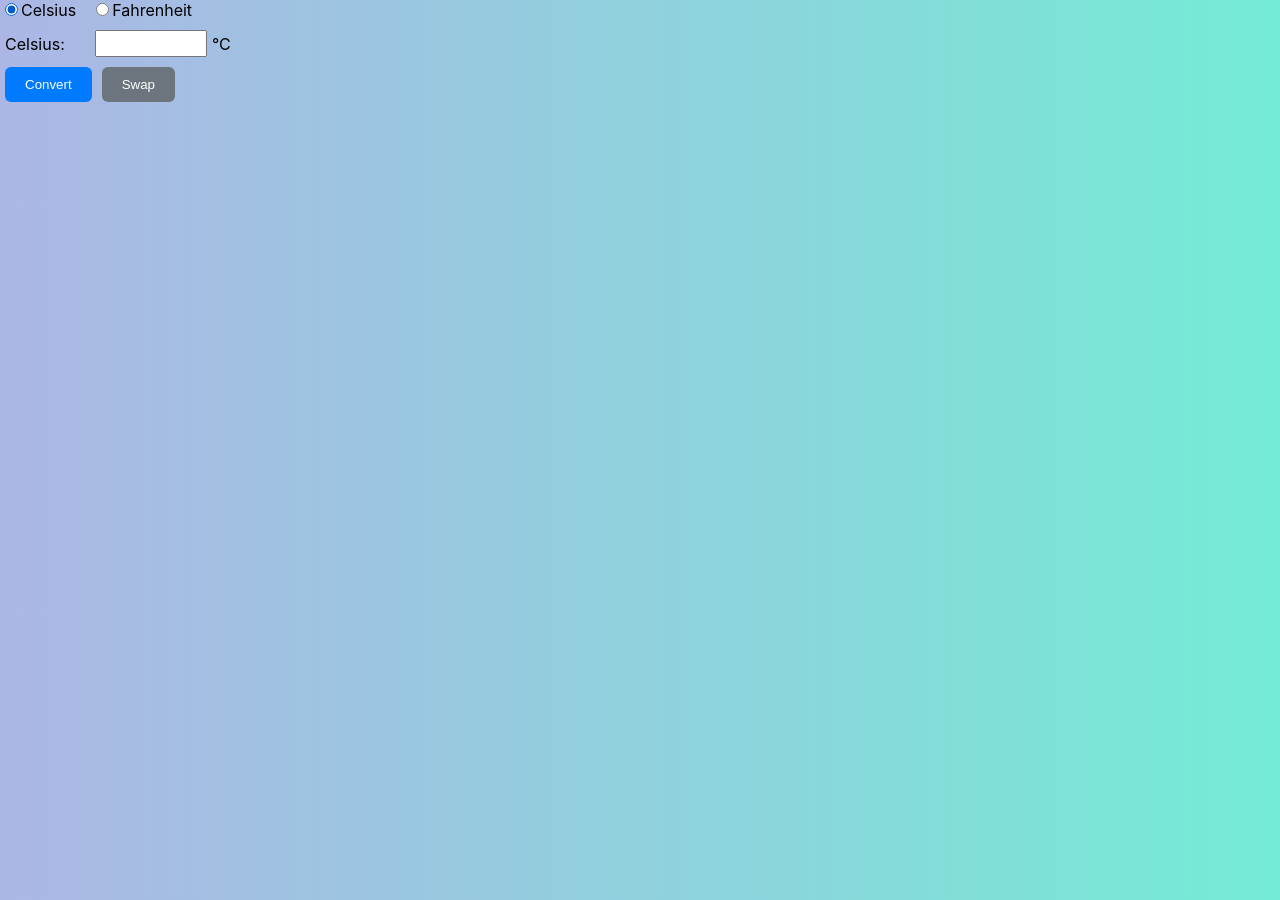
Temperature component › correctly converts temperature
The image size is (1280, 900).
# Enter an input value in Celsius
Type "25" into the number field with test id "input-field" at {"x": 151, "y": 44}, box [95, 30, 207, 57]
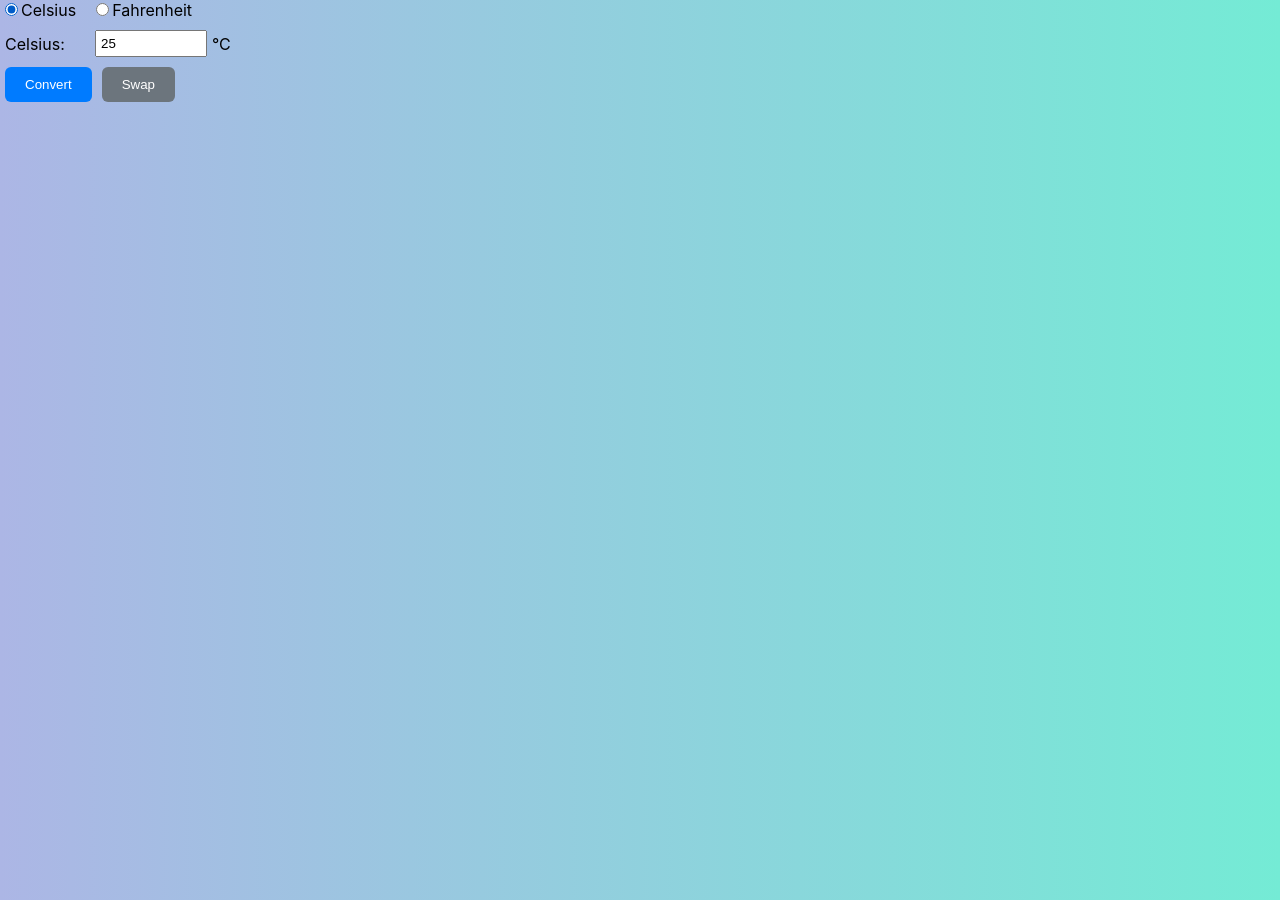
Click the button "Convert" at {"x": 48, "y": 84}, box [5, 67, 92, 102]
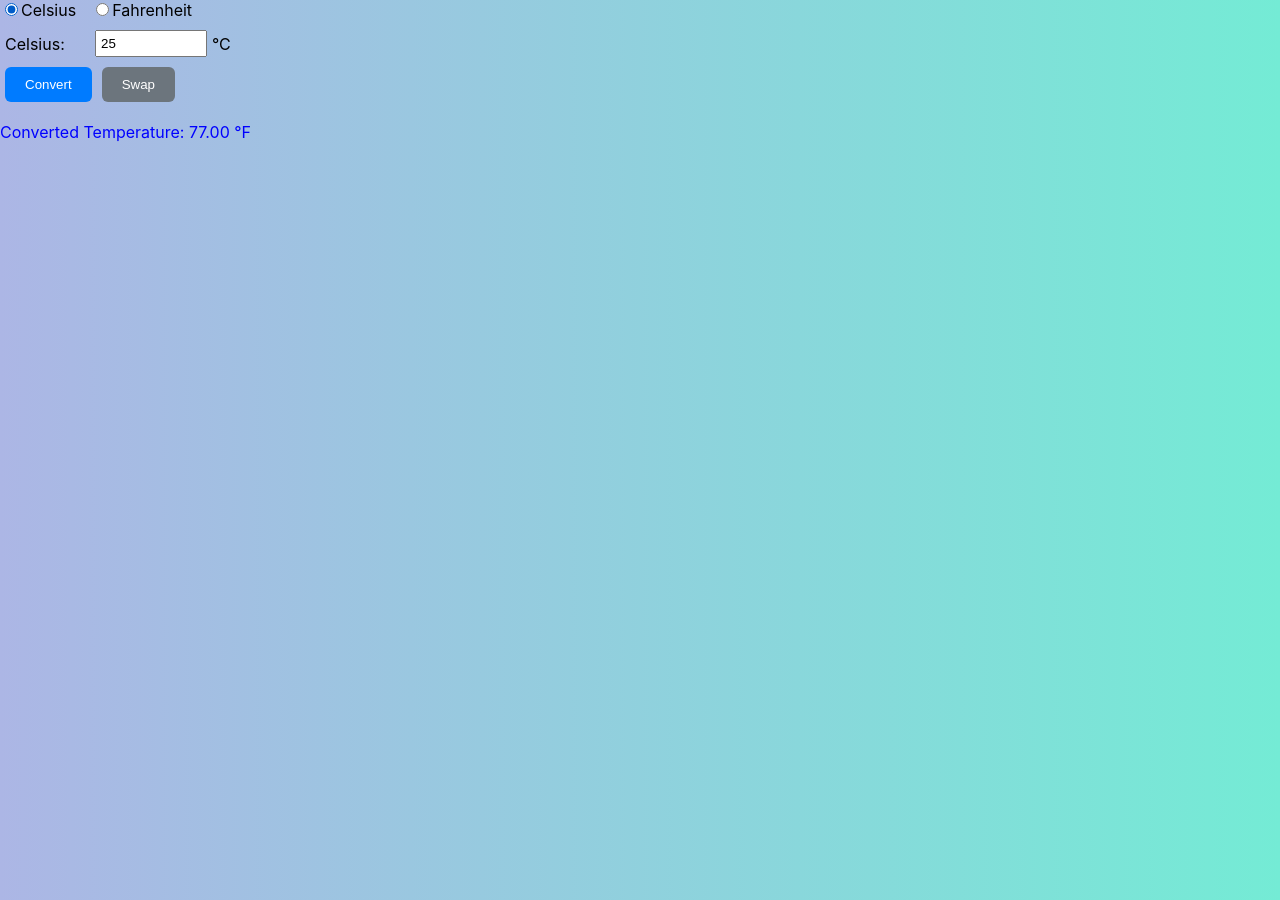
Expected: the text "Converted Temperature: 77.00 °F" is shown, [0, 122, 251, 142]
# Swap units and test again
Click the button "Swap" at {"x": 138, "y": 84}, box [102, 67, 175, 102]
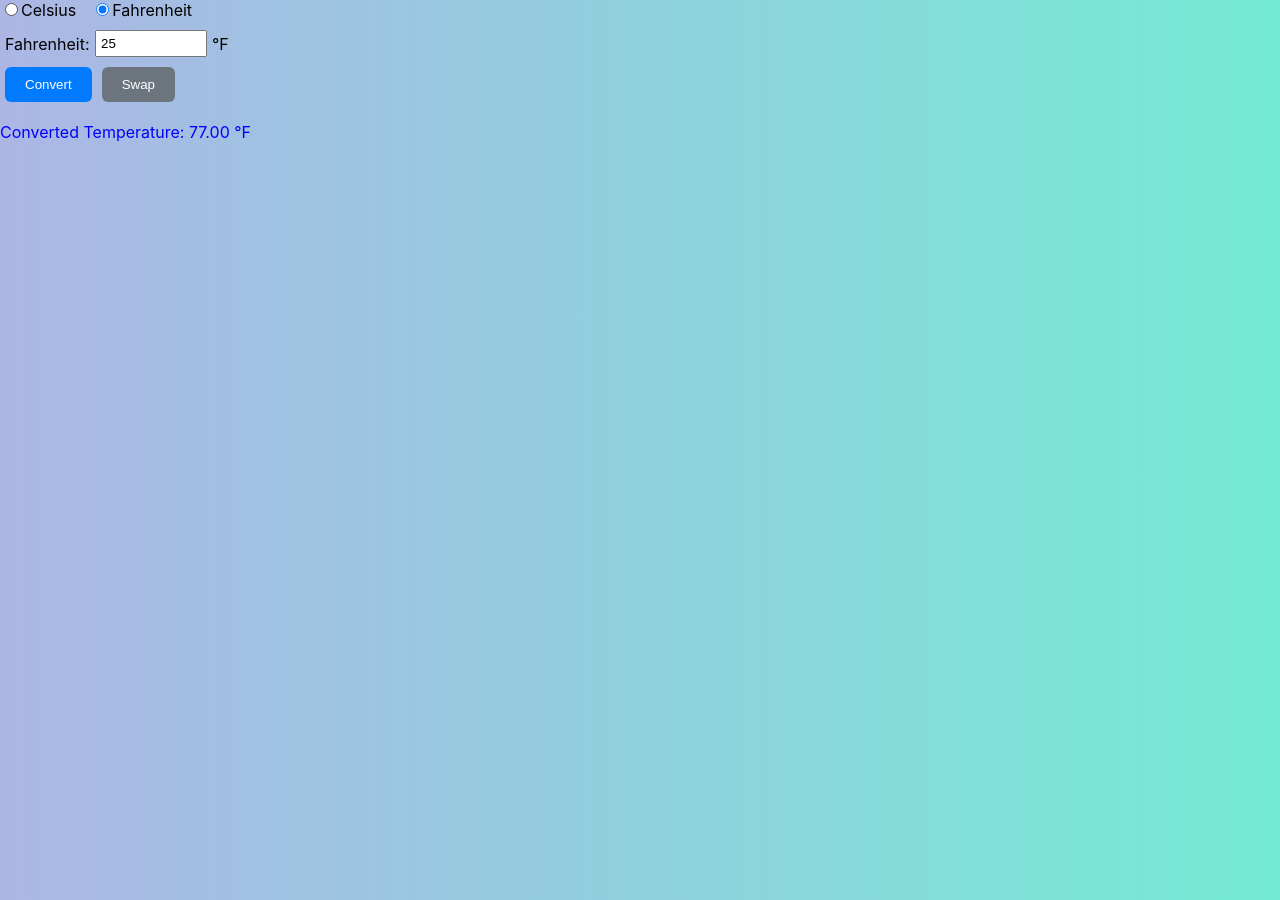
# Enter an input value in Fahrenheit
Replace the text in the number field with test id "input-field" with "77" at {"x": 151, "y": 44}, box [95, 30, 207, 57]
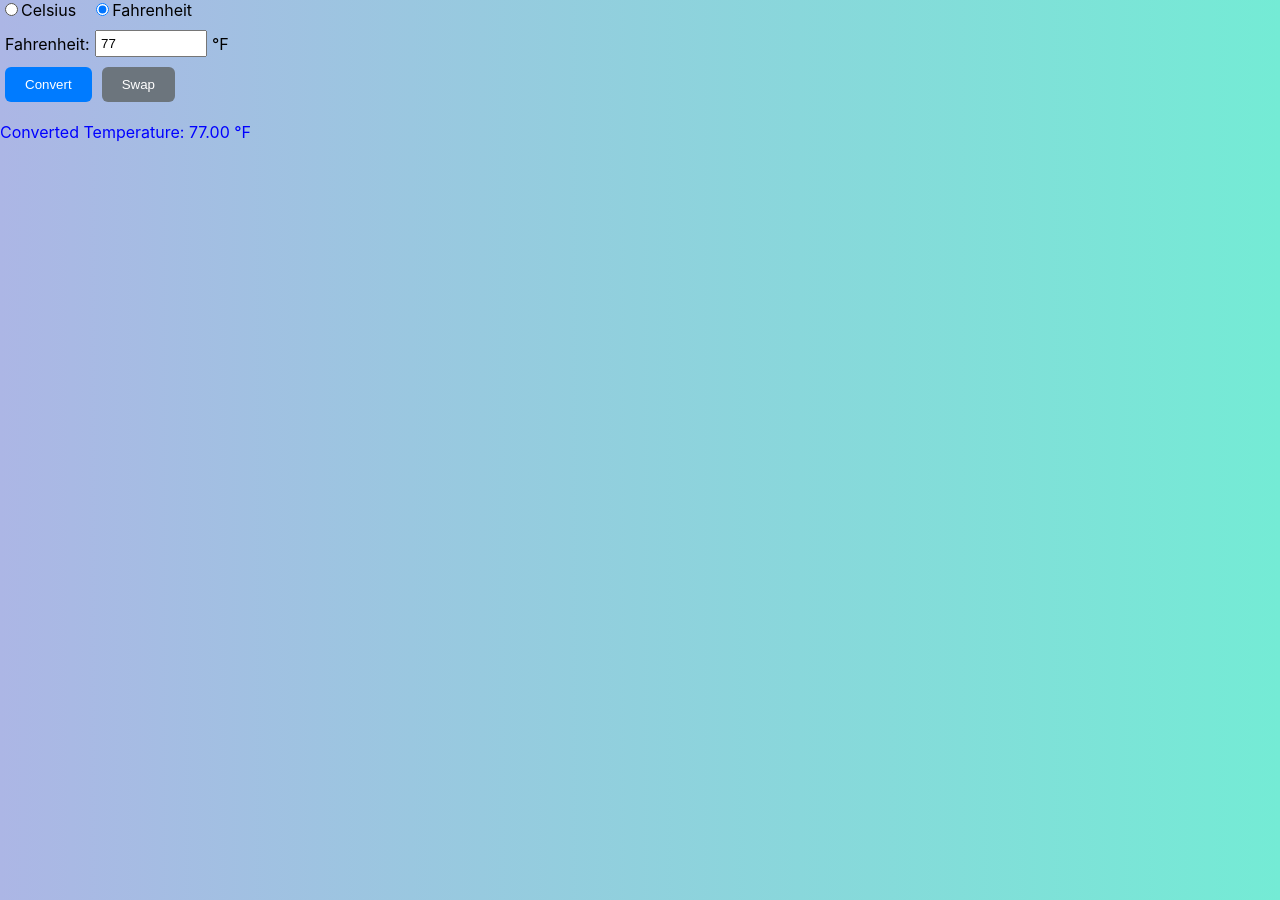
Click the button "Convert" at {"x": 48, "y": 84}, box [5, 67, 92, 102]
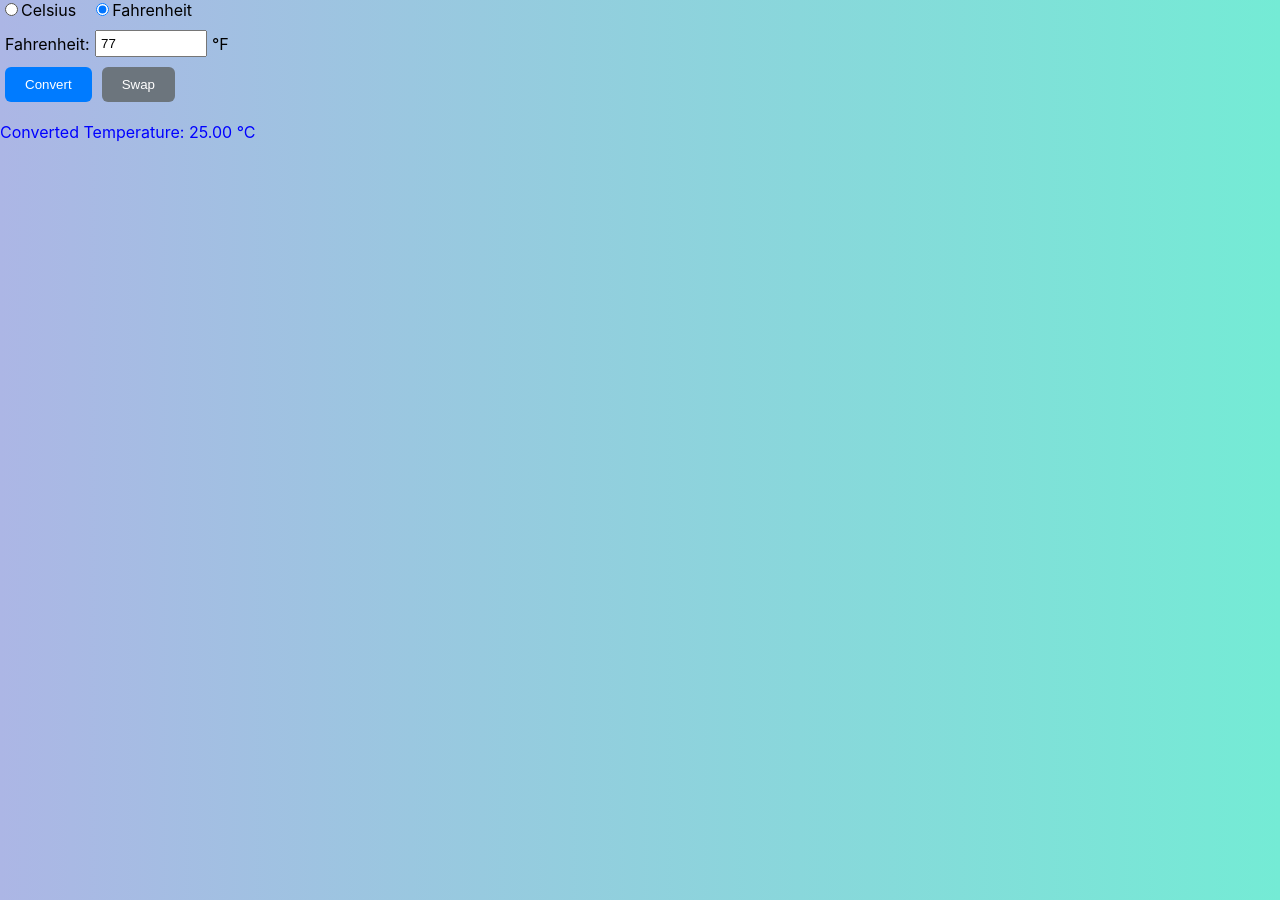
Expected: the text "Converted Temperature: 25.00 °C" is shown, [0, 122, 256, 142]
